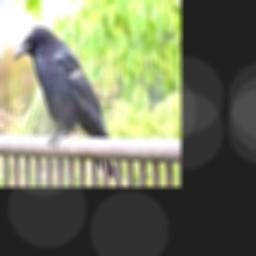Crow: (11, 25, 116, 180)
